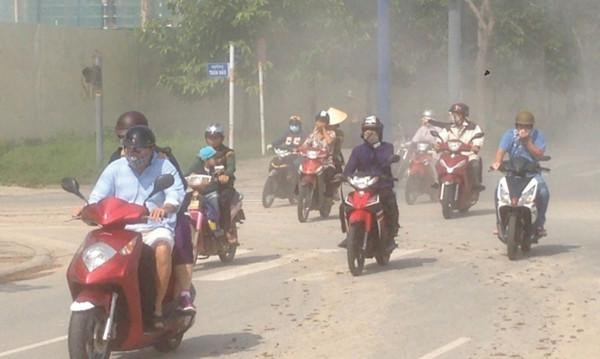motorcycle: (68, 198, 193, 358), (341, 171, 396, 276), (492, 157, 542, 256), (189, 172, 242, 260), (436, 141, 478, 216), (294, 148, 333, 221), (258, 146, 292, 209), (404, 141, 436, 202)
